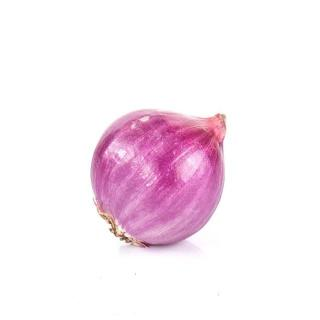Bawang Merah: (88, 105, 231, 250)
